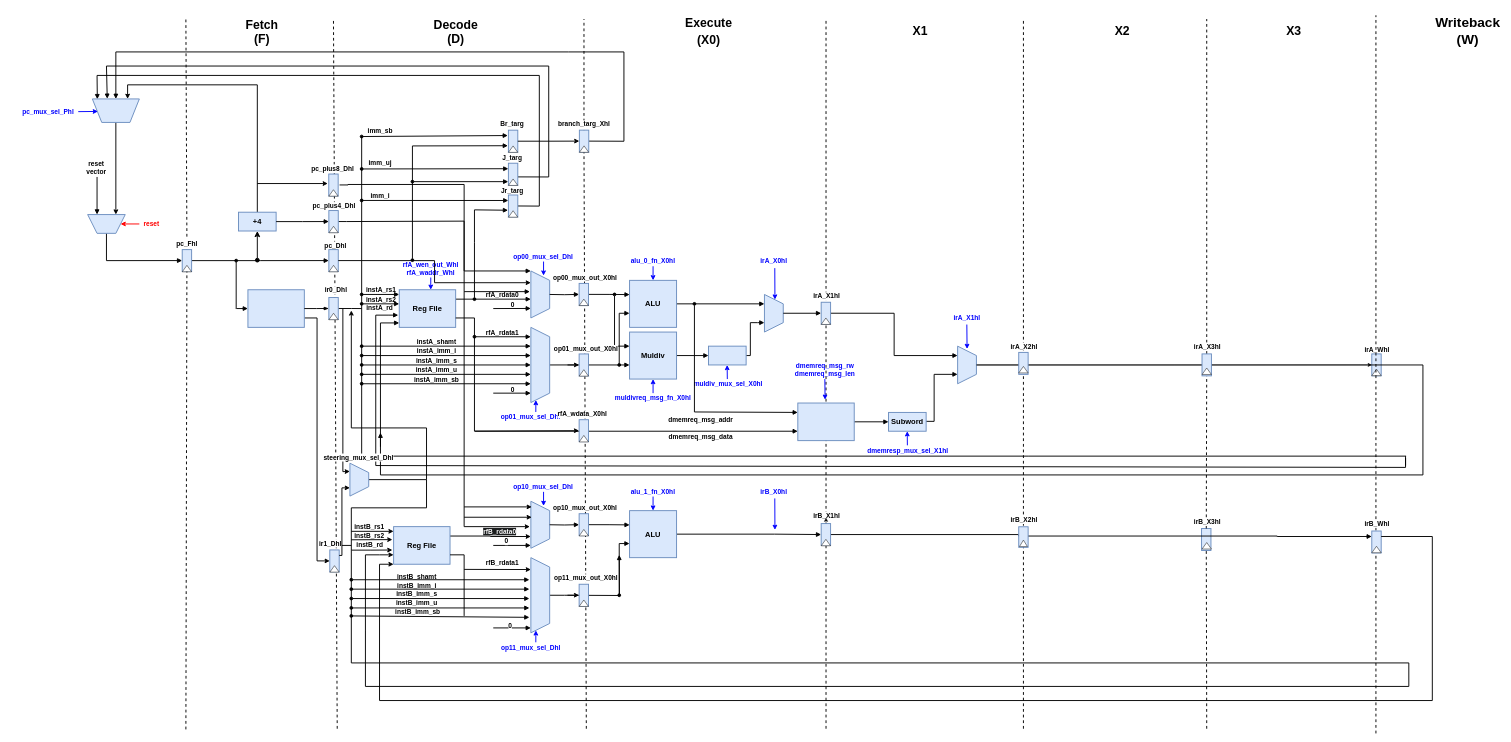
Image size: 1511x742. Some labels were removed from this diagram. Each missing label, with the centre of its shape:
"Data Mem" goes at (825,421).
"Inst Mem" goes at (276,308).
"Md_mux" goes at (727,355).
"PC mux" goes at (116,110).
